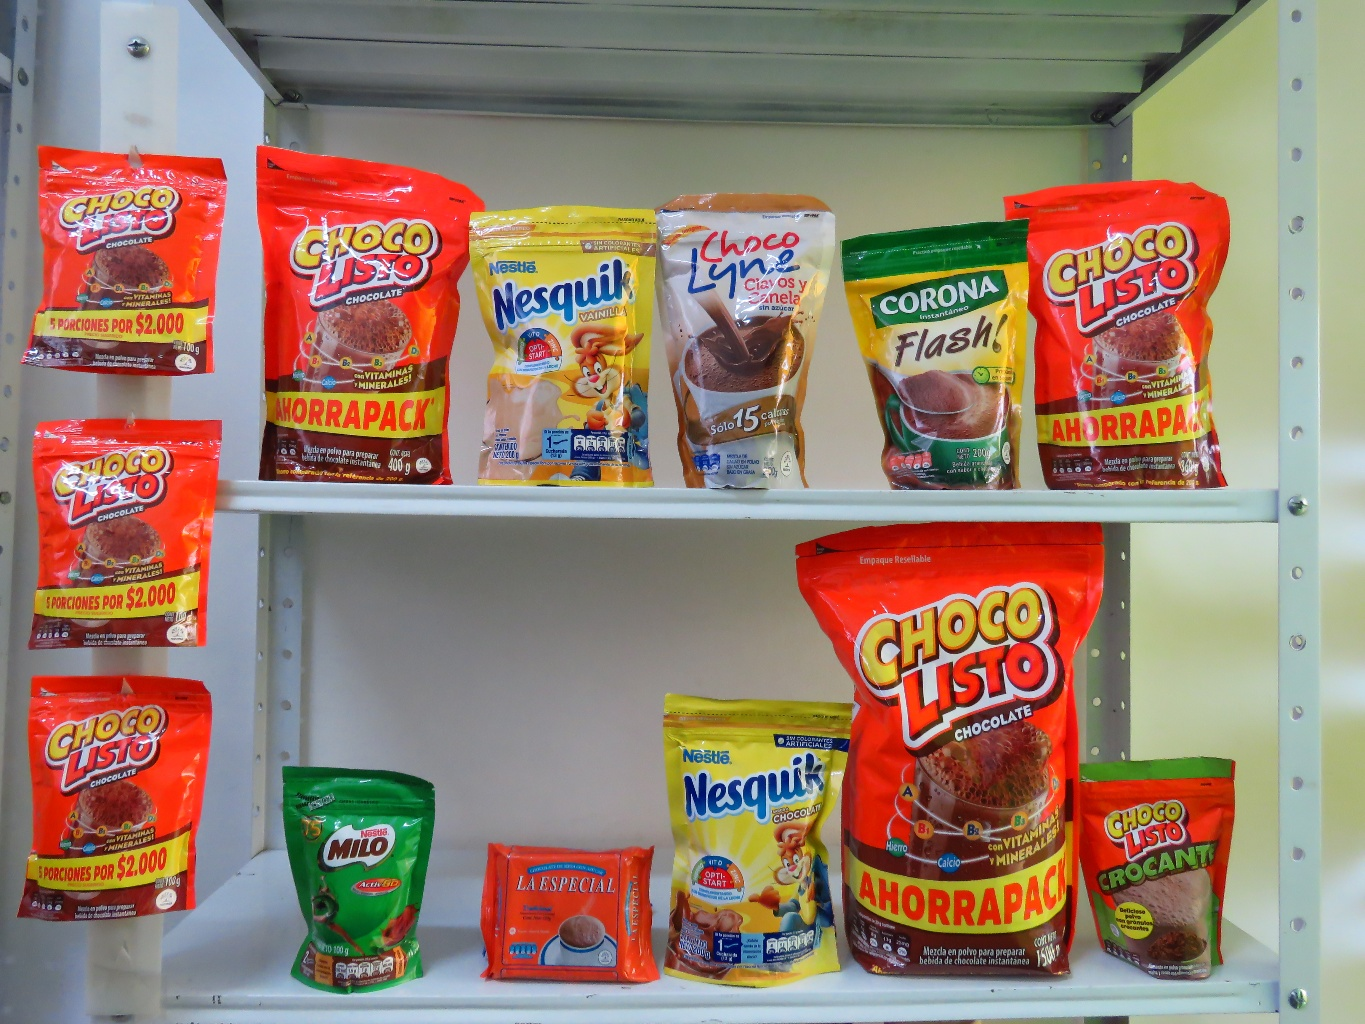COL0170102DYP10000: (1058, 743, 1245, 986)
COL0170103DYP1,500: (790, 507, 1099, 978)
COL0170103DYP10000: (5, 652, 217, 918)
COL0170103DYP36000: (1007, 177, 1255, 492)
COL0170103DYP40000: (242, 140, 463, 493)
COL0170203DYP10000: (260, 769, 436, 986)
COL0170303DYP20000: (643, 689, 854, 996)
COL0170306DYP20000: (463, 198, 673, 483)
